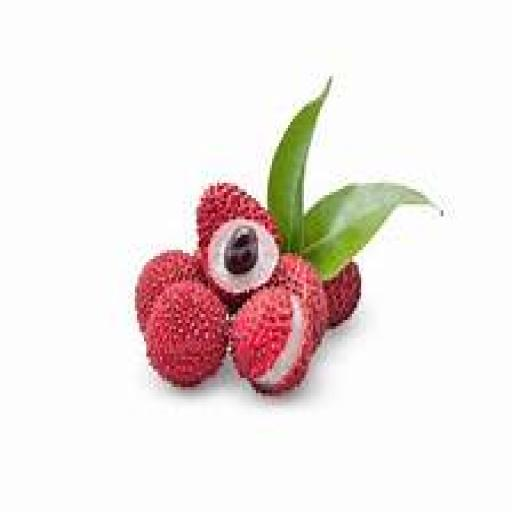lychee: (197, 183, 281, 307), (229, 287, 315, 393), (144, 281, 228, 387), (135, 250, 203, 332), (272, 253, 329, 347), (325, 263, 361, 326)
